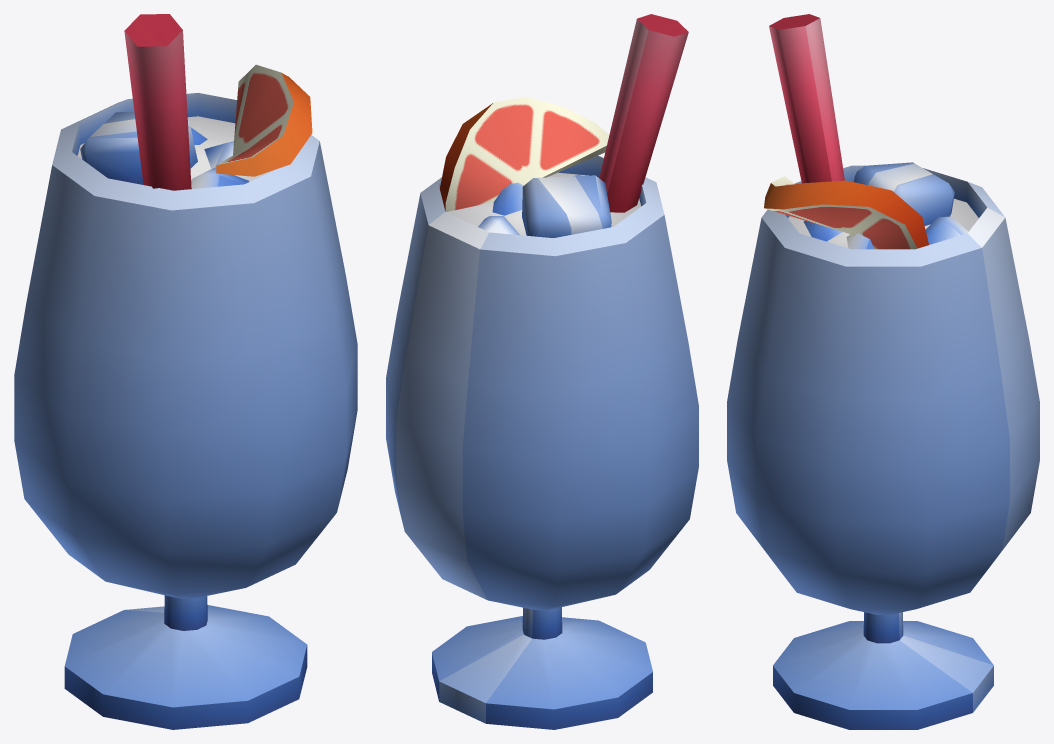
Rendered from m_Cocktail25.fbx.
3 views of the same model, side by side, from view 1: azimuth 30°, elevation 25°; view 2: azimuth 150°, elevation 25°; view 3: azimuth 270°, elevation 25° (orthographic). The views are drawn at different scales.
Parts seen in each view (by area): view 1: m_Cocktail25; view 2: m_Cocktail25; view 3: m_Cocktail25.
Boxes of the visible parts, x1=… form: m_Cocktail25: x1=14, y1=14, x2=357, y2=729; m_Cocktail25: x1=386, y1=14, x2=698, y2=729; m_Cocktail25: x1=727, y1=14, x2=1039, y2=729.
Bounding box in the file's own units: 13.45 × 31.6 × 14.14.
